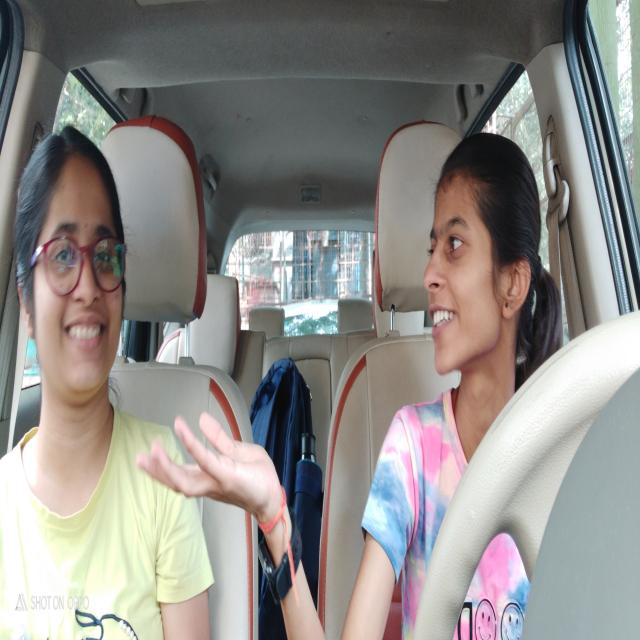LeftRight: (419, 121, 536, 372)
person: (18, 122, 130, 409)
talking: (61, 314, 109, 350), (428, 310, 460, 335)
